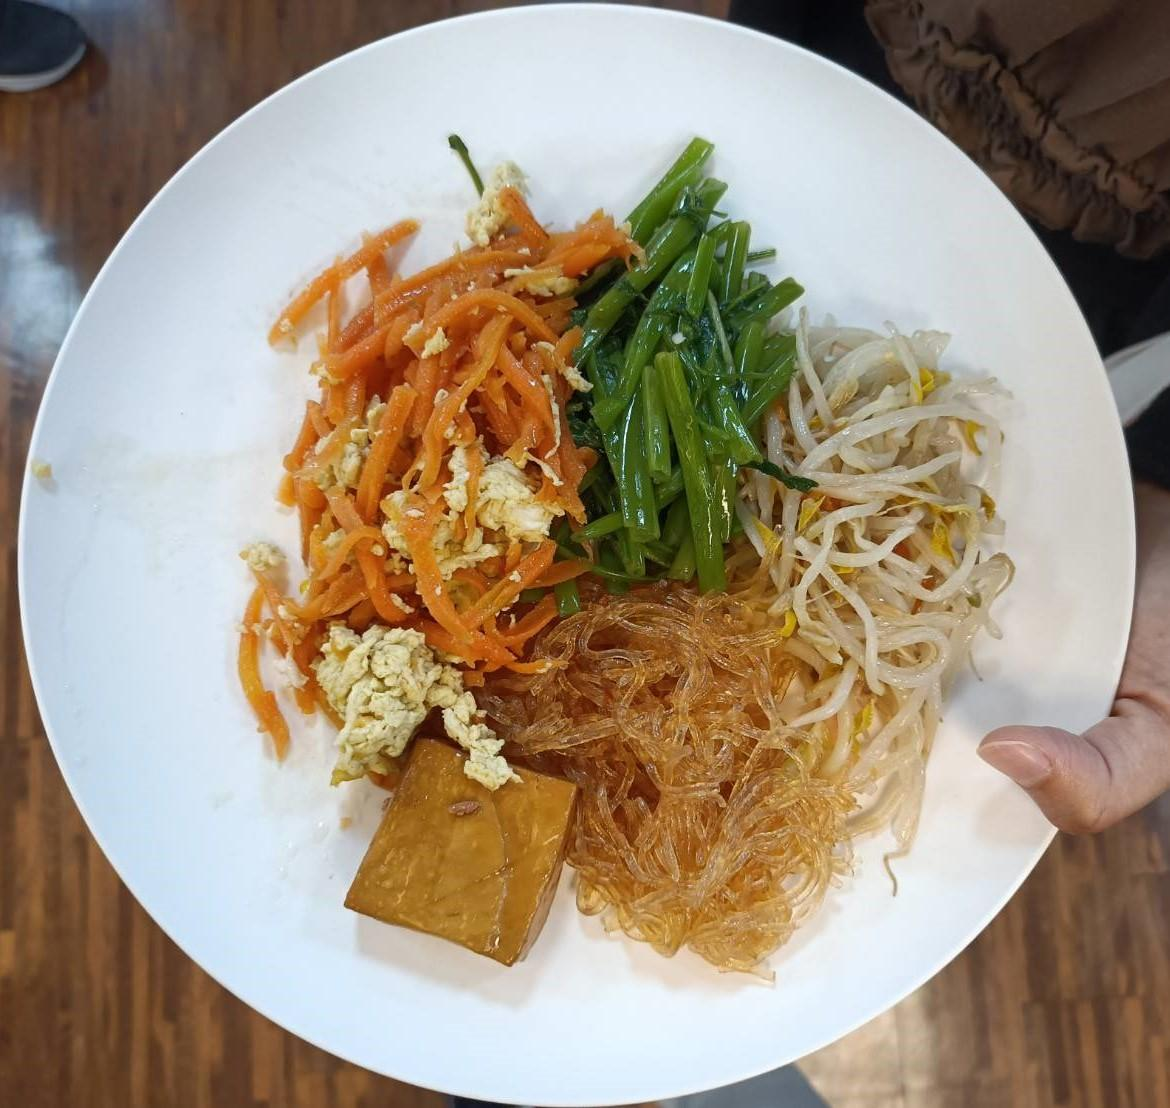big fried chicken leg: (16, 7, 1158, 1103)
braised fish fillet: (270, 194, 583, 737), (490, 557, 858, 960), (760, 306, 996, 789), (554, 178, 791, 562), (336, 719, 586, 978)
